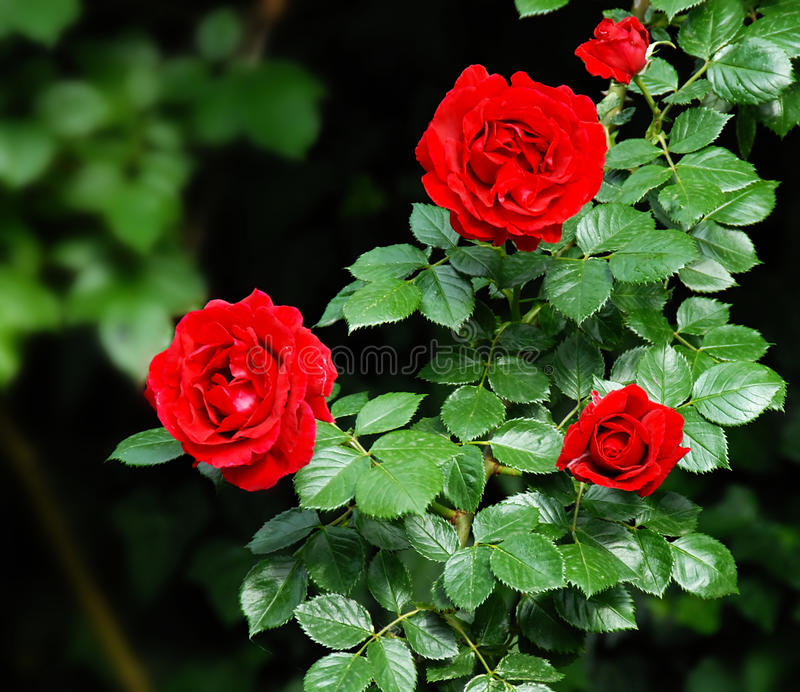RedRose: (415, 49, 573, 227), (161, 292, 328, 442), (546, 380, 686, 450), (595, 30, 644, 67)
